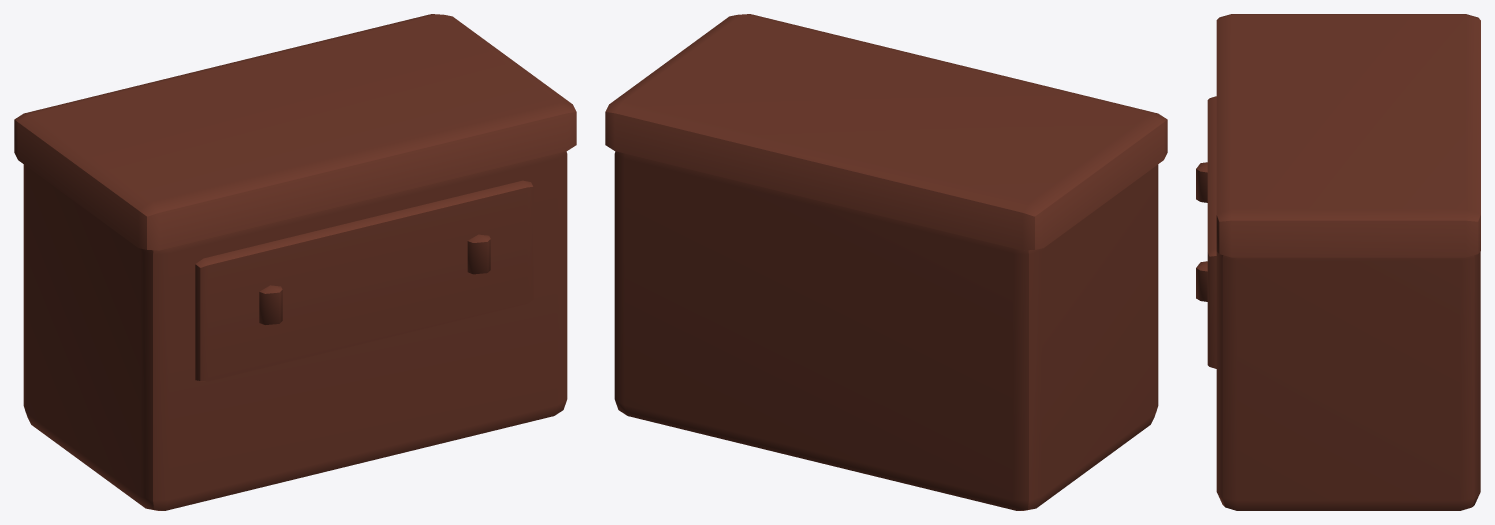
File: FornitureLow.fbx
3 views of the same model, side by side, from view 1: azimuth 30°, elevation 25°; view 2: azimuth 150°, elevation 25°; view 3: azimuth 270°, elevation 25° (orthographic). The views are drawn at different scales.
Visible parts, largest first — view 1: Forniture2; view 2: Forniture2; view 3: Forniture2.
Boxes of the visible parts, x1,y1,x2,y2 form: Forniture2: [14, 14, 576, 510]; Forniture2: [605, 14, 1167, 510]; Forniture2: [1196, 14, 1480, 510].
Bounding box in the file's own units: 2.4 × 1.65 × 1.4.
